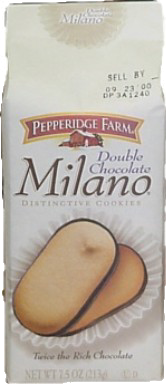grozi_71: (0, 0, 166, 384)
